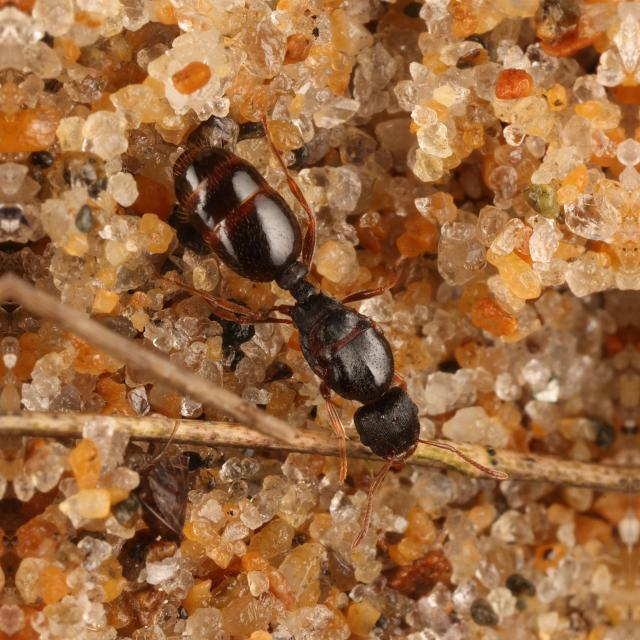Tetramorium: (134, 115, 472, 481)
